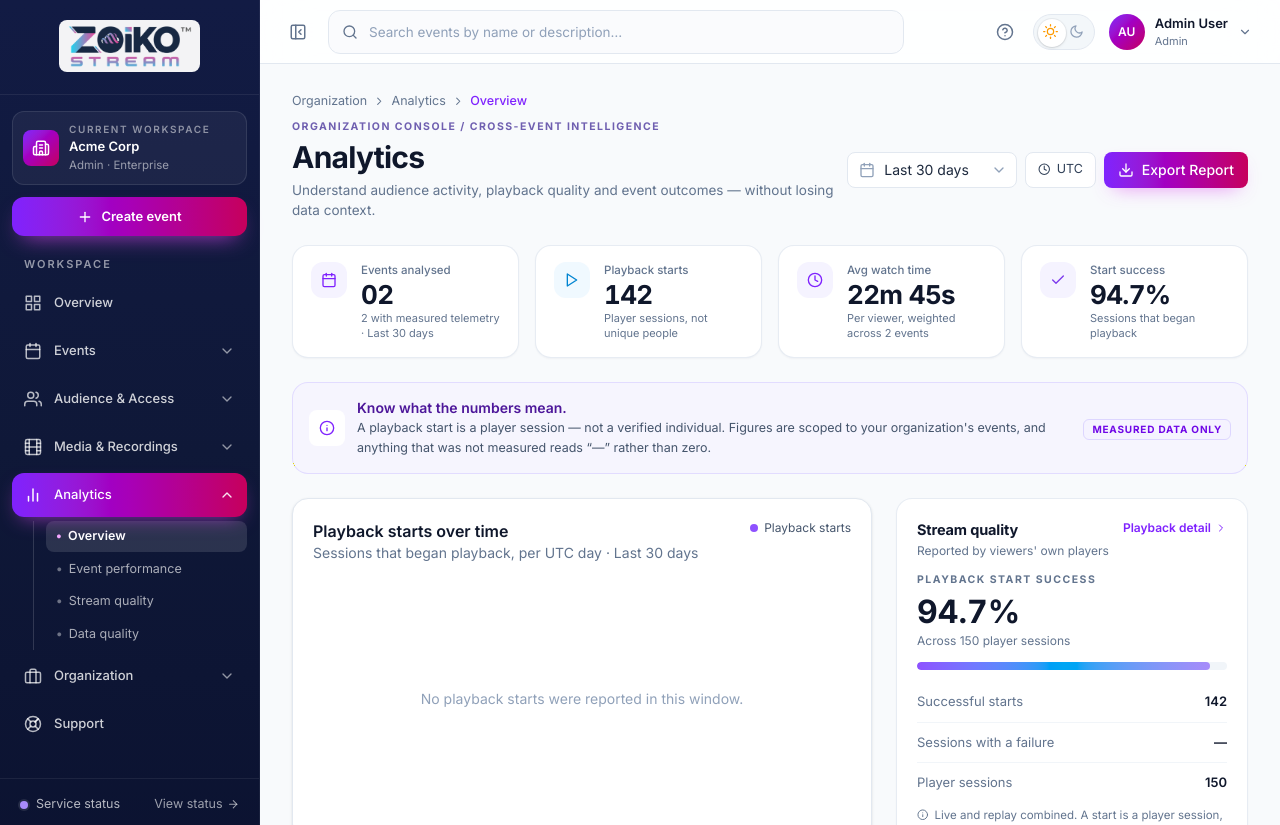
Analytics Parent and Sub-Navigation › clicking disclosure chevron toggles submenu without navigating
Expected: the heading "Analytics" is shown, 292,138 -> 424,174
# Collapse submenu
Click the button named "Collapse Analytics" at (227, 495), box 213,479 -> 241,511
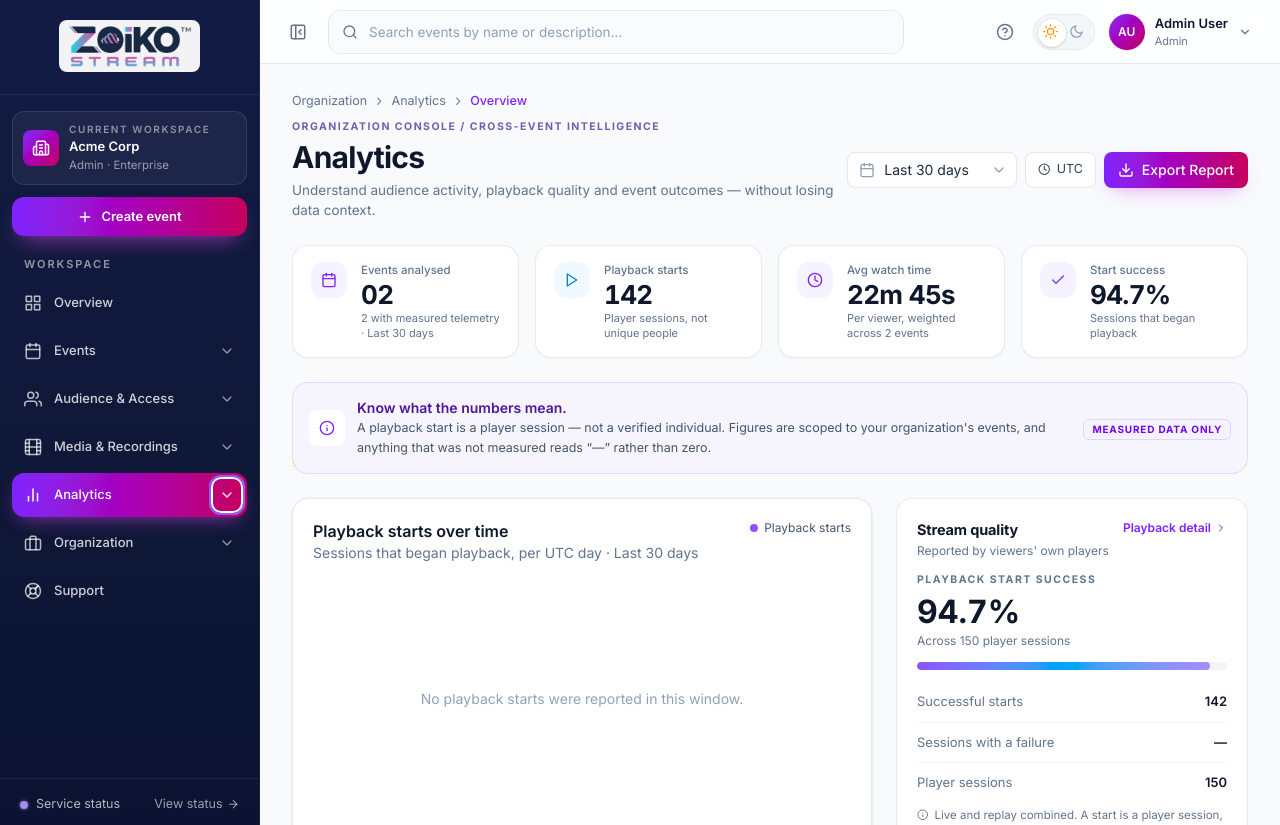
Expected: the heading "Analytics" is shown, 292,138 -> 424,174
# Expand submenu
Click the button named "Expand Analytics" at (227, 495), box 213,479 -> 241,511
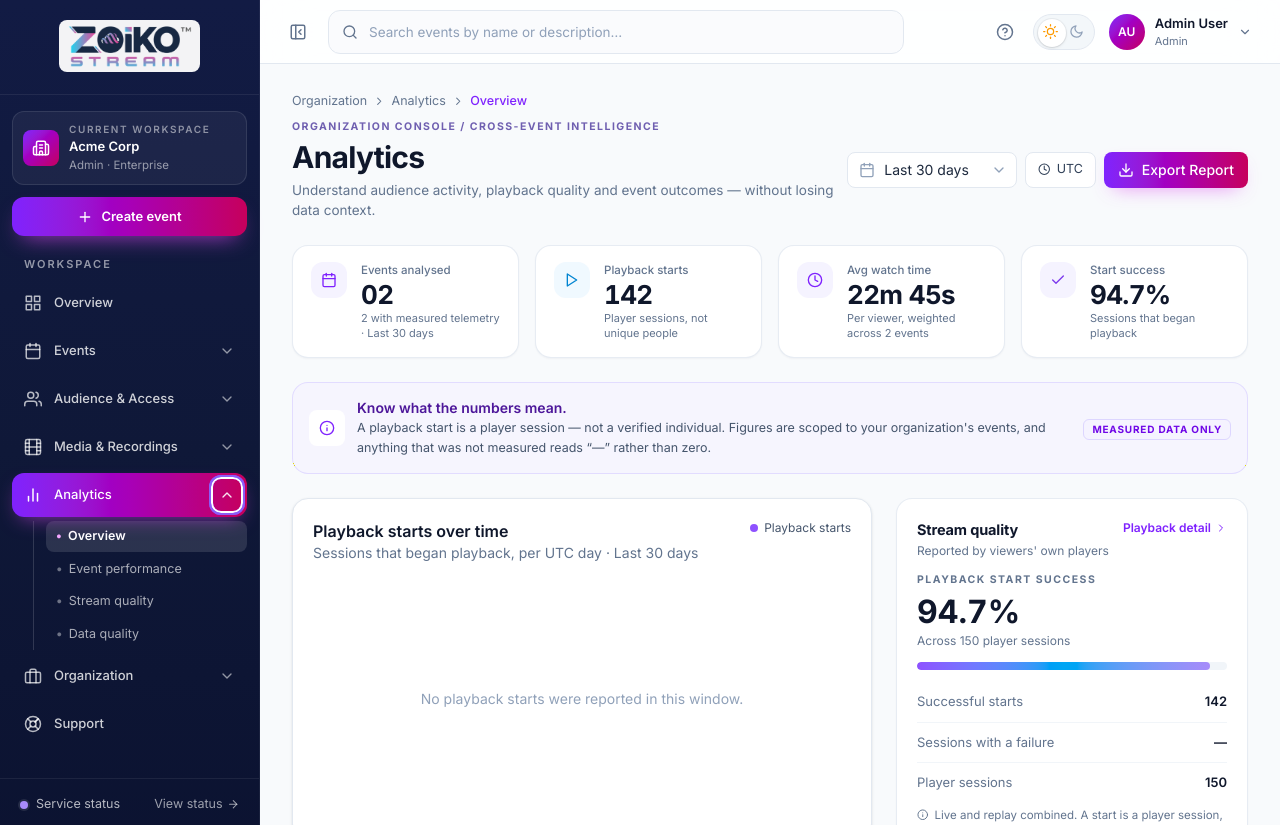
Result: the link "•Event performance" is shown at 56,560 -> 182,576
